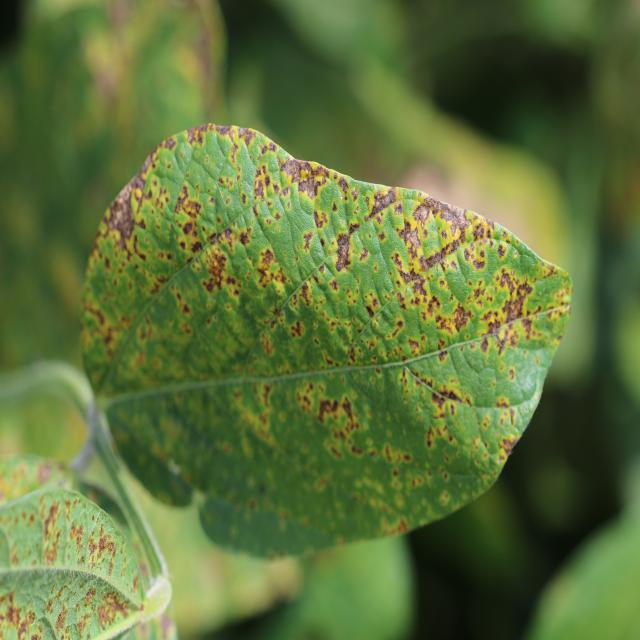Bacterial_Blight: (201, 497, 335, 560), (279, 188, 319, 261), (83, 323, 118, 390), (174, 182, 212, 236), (359, 351, 439, 376), (103, 187, 137, 242), (504, 354, 542, 402), (331, 236, 361, 285), (201, 246, 231, 292), (163, 461, 193, 505), (363, 184, 401, 217), (316, 395, 349, 426), (228, 126, 269, 150), (380, 437, 413, 466), (253, 382, 275, 416), (502, 295, 526, 324), (279, 157, 306, 182), (451, 303, 473, 333), (403, 225, 423, 257), (258, 247, 278, 277), (445, 469, 480, 485), (410, 275, 430, 301), (435, 386, 464, 403), (424, 250, 446, 269), (413, 203, 432, 224), (541, 261, 562, 280), (485, 316, 503, 336), (253, 175, 266, 200), (502, 436, 519, 455), (289, 320, 305, 339), (390, 252, 403, 271), (337, 176, 349, 196), (217, 125, 234, 139), (239, 229, 251, 246), (329, 445, 343, 459), (439, 490, 451, 506), (408, 338, 420, 352), (364, 304, 375, 319), (497, 243, 507, 259), (416, 189, 429, 201), (562, 293, 572, 305), (438, 277, 446, 288), (379, 231, 386, 242), (484, 441, 490, 451), (402, 426, 407, 436)
Soybean: (78, 125, 573, 568)
